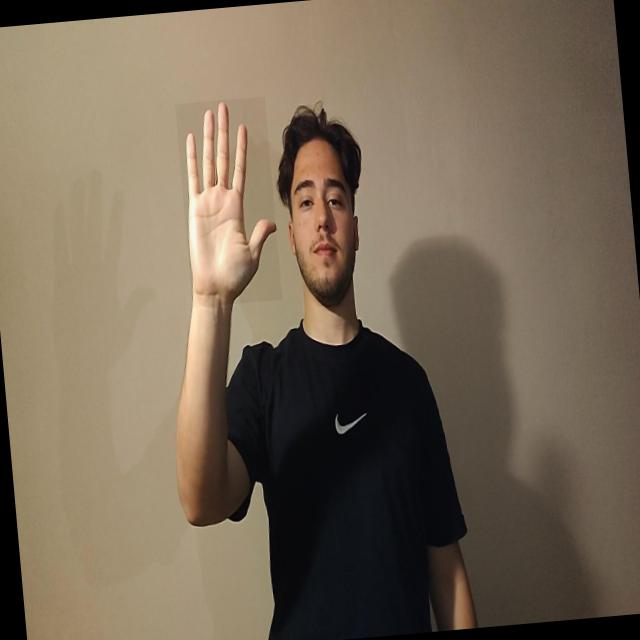hello: (175, 96, 282, 307)
